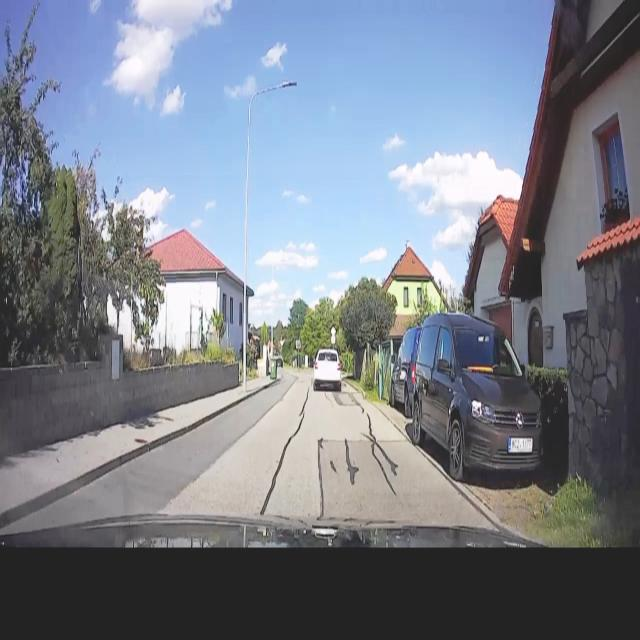Priority road: (329, 325, 336, 334)
